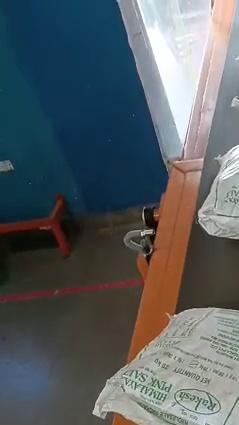box: (93, 308, 239, 425), (198, 144, 239, 238), (232, 87, 239, 109)
